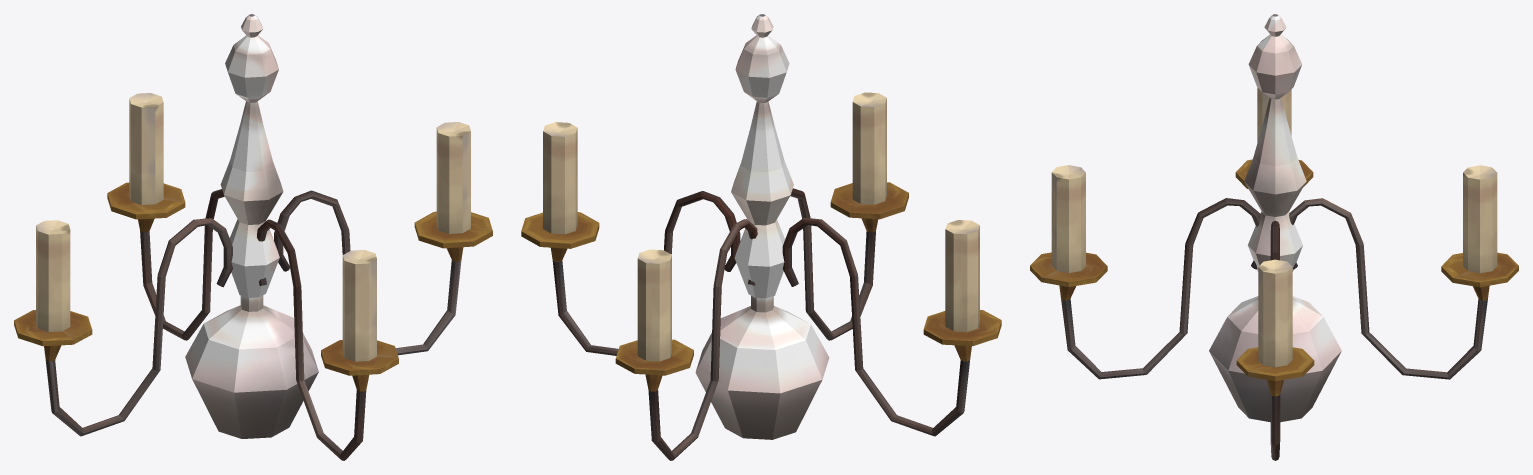
File: chandelier.fbx
3 views of the same model, side by side, from view 1: azimuth 30°, elevation 25°; view 2: azimuth 150°, elevation 25°; view 3: azimuth 270°, elevation 25° (orthographic). The views are drawn at different scales.
Parts seen in each view (by area): view 1: lustre; view 2: lustre; view 3: lustre.
Part boxes in pixels (<box>): lustre: <box>14,14,492,460</box>; lustre: <box>521,14,1001,460</box>; lustre: <box>1030,14,1518,460</box>.
Size of the model in its own units: 543 by 460 by 508.
